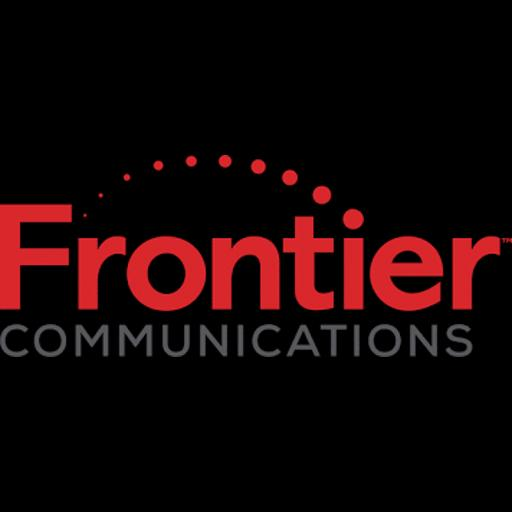Frontier Communications: (0, 155, 512, 357)
